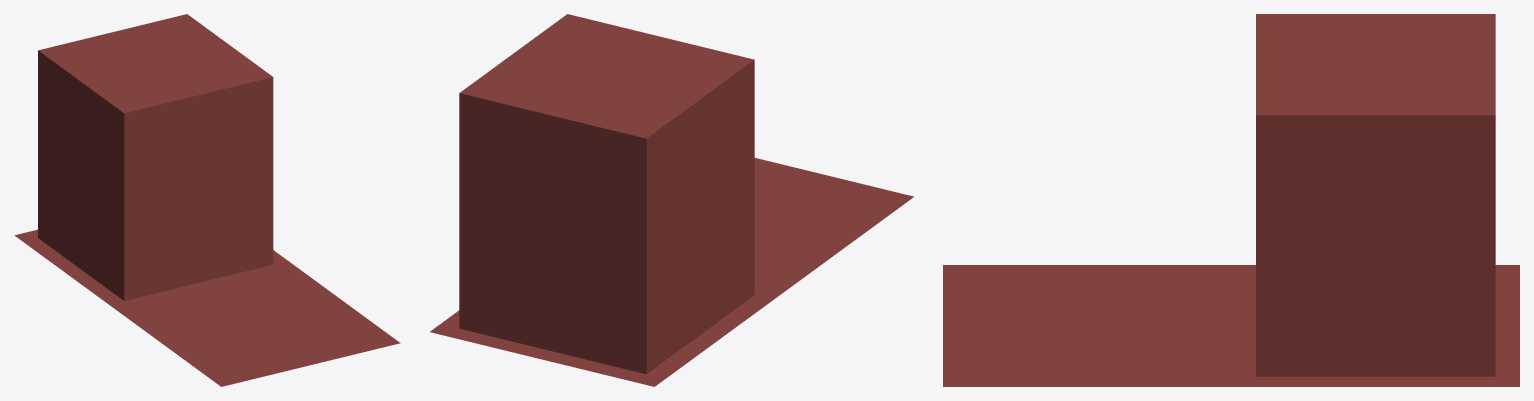
The model's file is 1x1 With Front.fbx.
The picture shows the model from 3 angles, left to right: view 1: azimuth 30°, elevation 25°; view 2: azimuth 150°, elevation 25°; view 3: azimuth 270°, elevation 25°; orthographic projection. The views are drawn at different scales.
Parts seen in each view (by area): view 1: 1x1 With Front; view 2: 1x1 With Front; view 3: 1x1 With Front.
Part boxes in pixels (x1,y1,x2,y2): 1x1 With Front: (14,14,400,386); 1x1 With Front: (430,14,913,386); 1x1 With Front: (943,14,1519,386).
Size of the model in its own units: 1 by 1 by 2.
